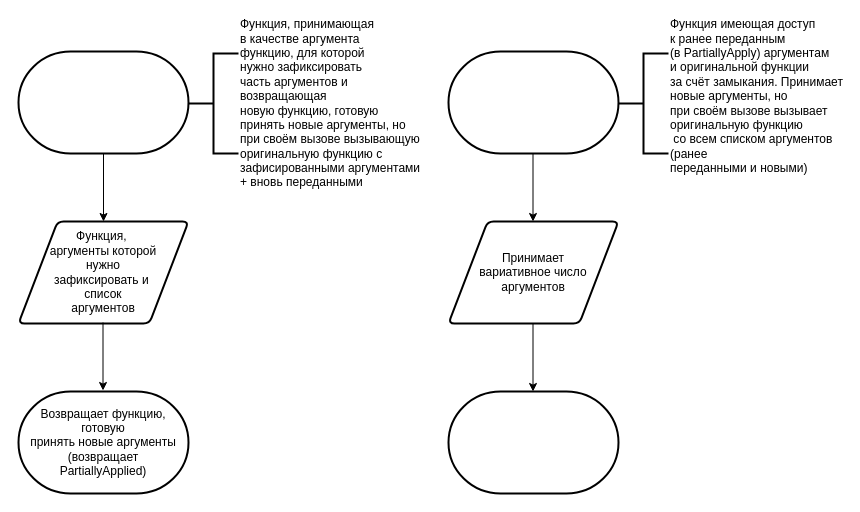
This 860x512 diagram has some shape labels left out. The centre of each missing label's shape, as x and y in pixels:
"Вызывает оригинальную функцию со всем списком аргументов" belongs at point 533,442.
"Запуск (Функция PartiallyApplied)" belongs at point 533,102.
"Запуск (Функция PartiallyApply)" belongs at point 103,102.
